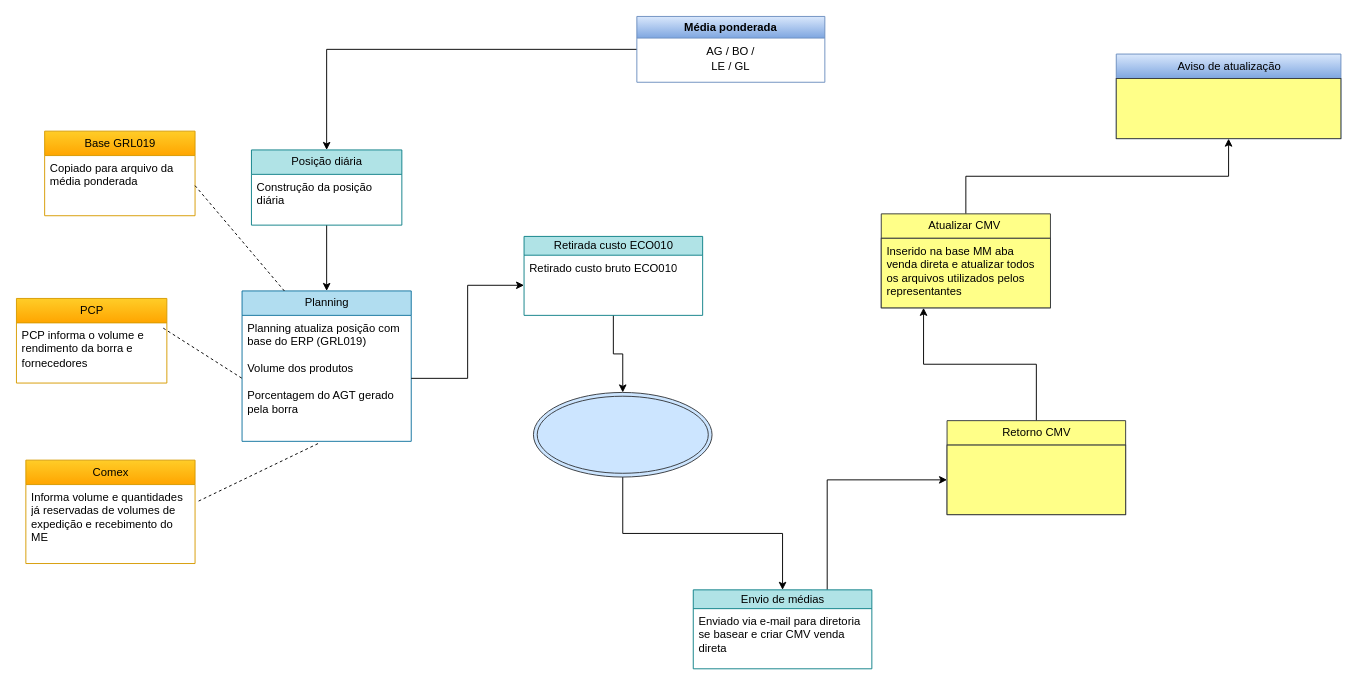
Some shapes in this 1357 by 688 pixel diagram are drawn without their labels. The shapes that lost their labels are listed below. From the top down, each one's centre as x and y in pixels, then its label:
At point (1228, 108): "Atualizar comercial via teams a versão do cmv gerada para a semana".
At point (622, 434): "Média ponderada concluida".
At point (1036, 479): "Retornado tabela de CVM venda direta".
